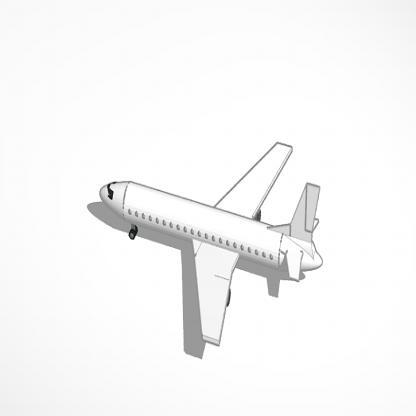CIV_Plane: (93, 130, 328, 358)
